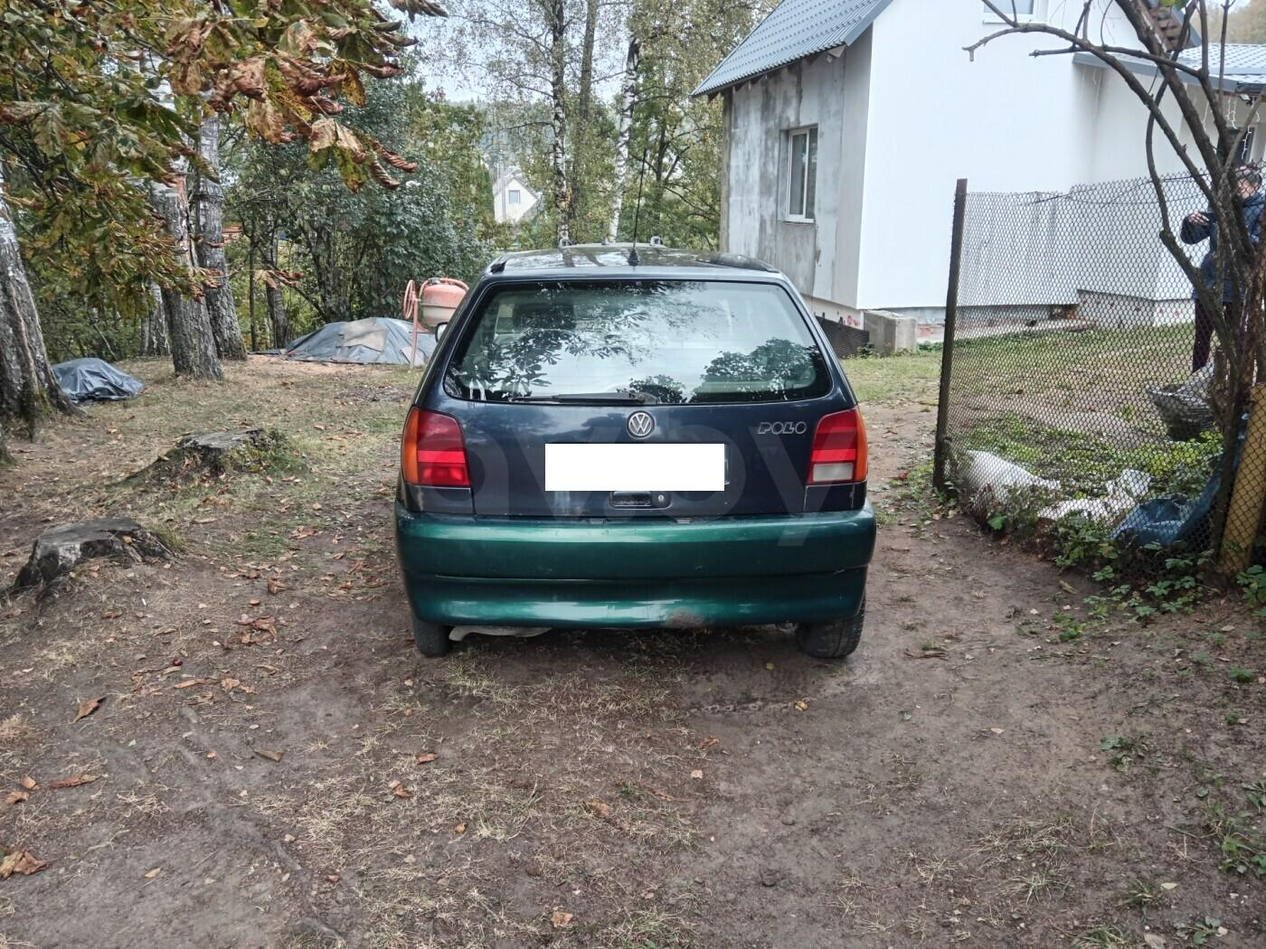Polo_1994-2002: (396, 263, 865, 680)
